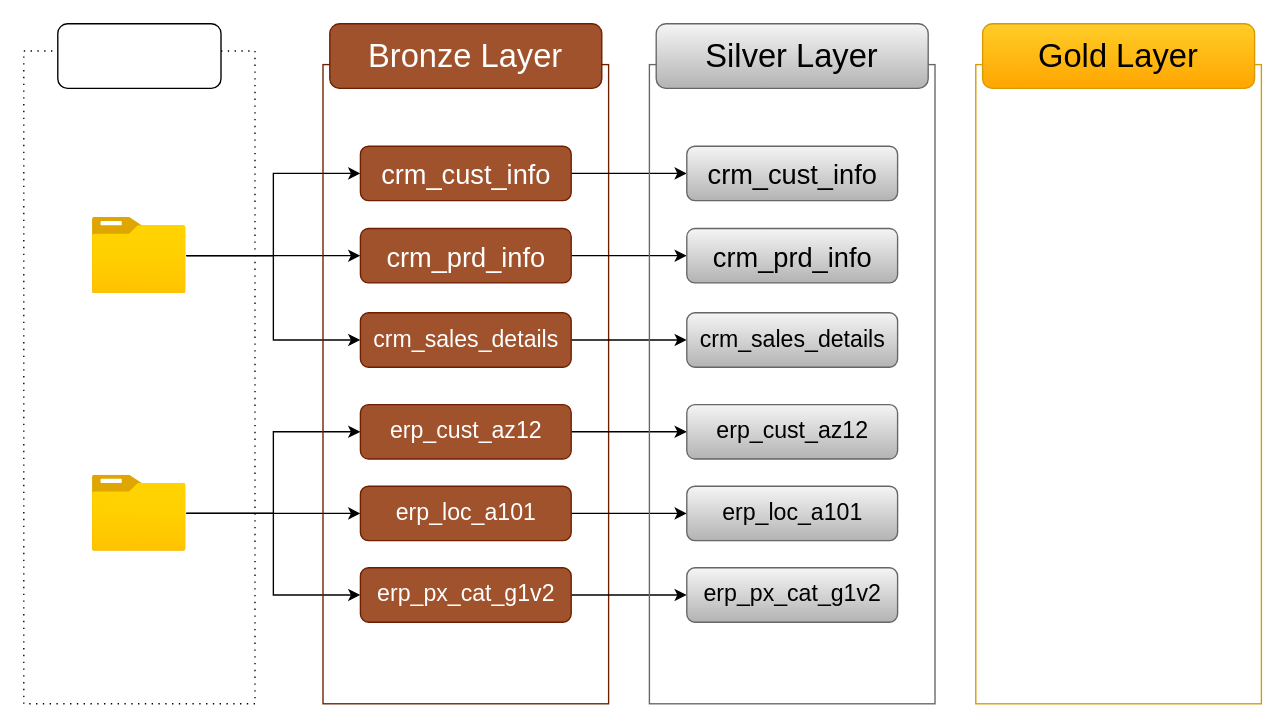
The diagram is 1285 pixels wide and 728 high, and some of its shapes have lost their labels. The box of each missing label's shape, as (x1, y1, x2, y2) in pixels:
CRM: (92, 217, 186, 293)
ERP: (92, 475, 186, 551)
Sources: (56, 22, 221, 88)
